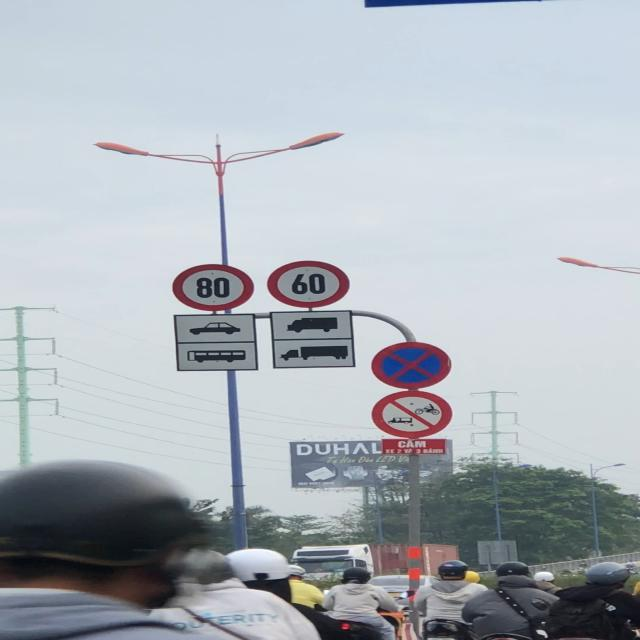Bien bao cam dung xe va do xe: (370, 341, 454, 389)
Bien bao toc do toi da cho phep: (264, 259, 354, 309), (171, 262, 255, 310)
